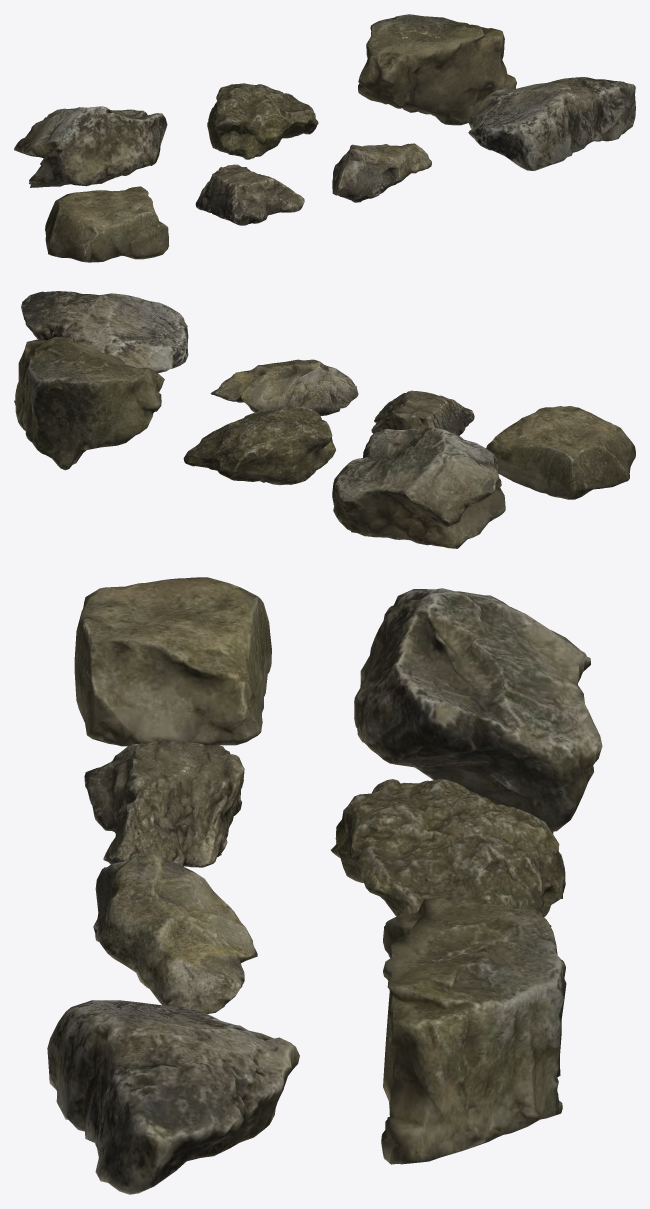
The model's file is pedra2.glb.
3 views of the same model, one above another, from view 1: azimuth 30°, elevation 25°; view 2: azimuth 150°, elevation 25°; view 3: azimuth 270°, elevation 25° (orthographic). The views are drawn at different scales.
Visible parts, largest first — view 1: rock_moss_set_02_rock13, rock_moss_set_02_rock10, rock_moss_set_02_rock11, rock_moss_set_02_rock07, rock_moss_set_02_rock12, rock_moss_set_02_rock08, rock_moss_set_02_rock09; view 2: rock_moss_set_02_rock11, rock_moss_set_02_rock13, rock_moss_set_02_rock07, rock_moss_set_02_rock10, rock_moss_set_02_rock12, rock_moss_set_02_rock09, rock_moss_set_02_rock08; view 3: rock_moss_set_02_rock13, rock_moss_set_02_rock11, rock_moss_set_02_rock10, rock_moss_set_02_rock07, rock_moss_set_02_rock12, rock_moss_set_02_rock09, rock_moss_set_02_rock08.
Part boxes in pixels (x1,y1,x2,y2): rock_moss_set_02_rock13: [358, 14, 516, 125]; rock_moss_set_02_rock10: [468, 77, 635, 170]; rock_moss_set_02_rock11: [14, 106, 167, 187]; rock_moss_set_02_rock07: [45, 186, 169, 262]; rock_moss_set_02_rock12: [207, 83, 318, 159]; rock_moss_set_02_rock08: [195, 164, 304, 225]; rock_moss_set_02_rock09: [332, 143, 431, 202]; rock_moss_set_02_rock11: [332, 427, 505, 548]; rock_moss_set_02_rock13: [14, 337, 164, 470]; rock_moss_set_02_rock07: [486, 406, 635, 499]; rock_moss_set_02_rock10: [21, 291, 188, 373]; rock_moss_set_02_rock12: [183, 406, 335, 485]; rock_moss_set_02_rock09: [210, 359, 358, 416]; rock_moss_set_02_rock08: [371, 390, 474, 435]; rock_moss_set_02_rock13: [381, 895, 566, 1164]; rock_moss_set_02_rock11: [354, 588, 602, 833]; rock_moss_set_02_rock10: [47, 1000, 299, 1194]; rock_moss_set_02_rock07: [74, 577, 271, 746]; rock_moss_set_02_rock12: [331, 779, 565, 926]; rock_moss_set_02_rock09: [93, 851, 257, 1013]; rock_moss_set_02_rock08: [84, 741, 244, 867].
Bounding box in the file's own units: 8.28 × 1.37 × 3.41.
Materials: 1 (1 with a texture image).
